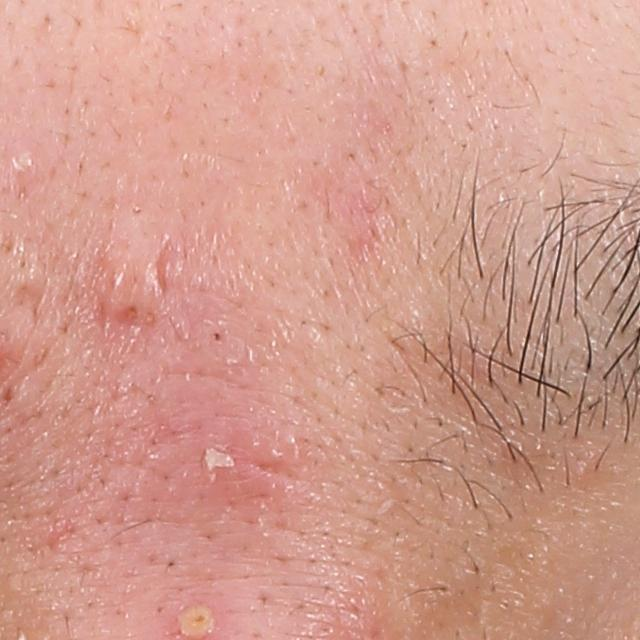atrophic_scar: (149, 233, 172, 303)
